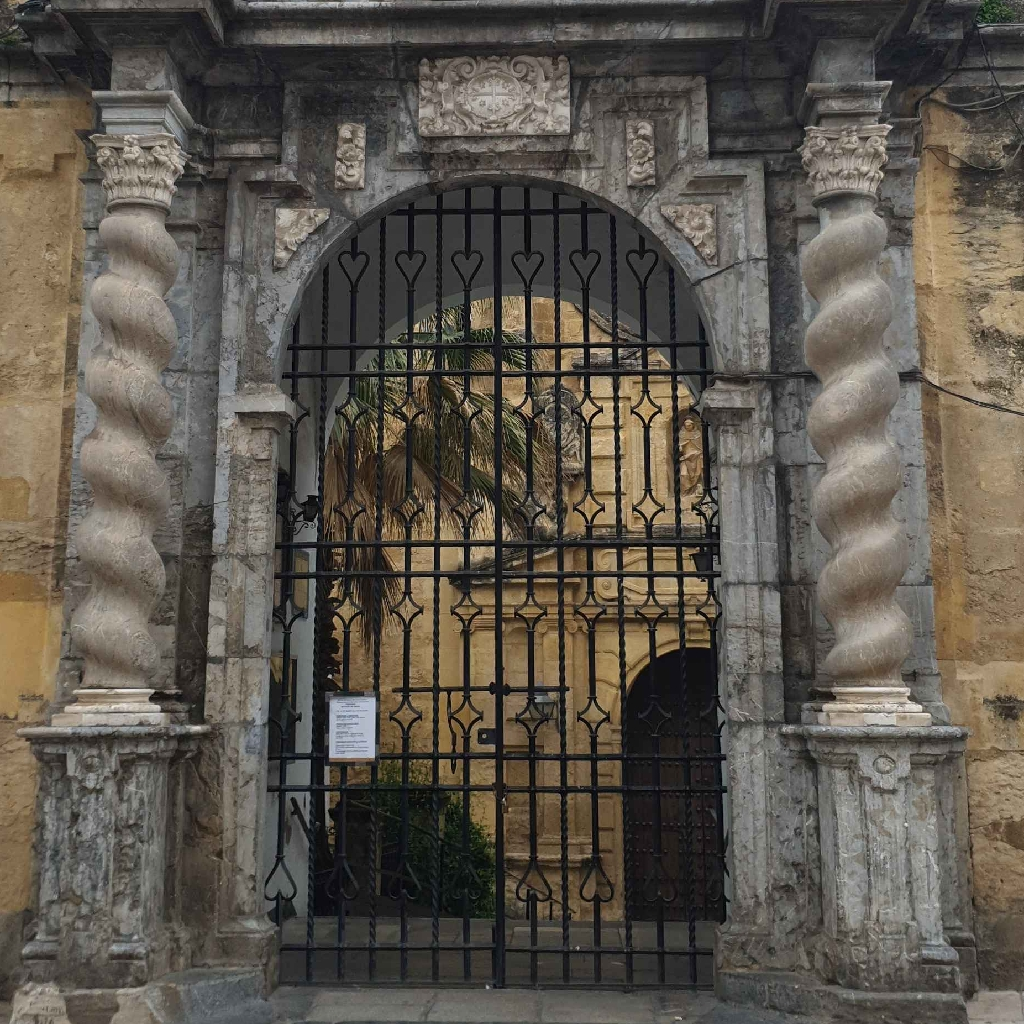arco-medio-punto: (239, 143, 746, 446)
columna-salomonica: (798, 181, 922, 702), (64, 188, 185, 715)
